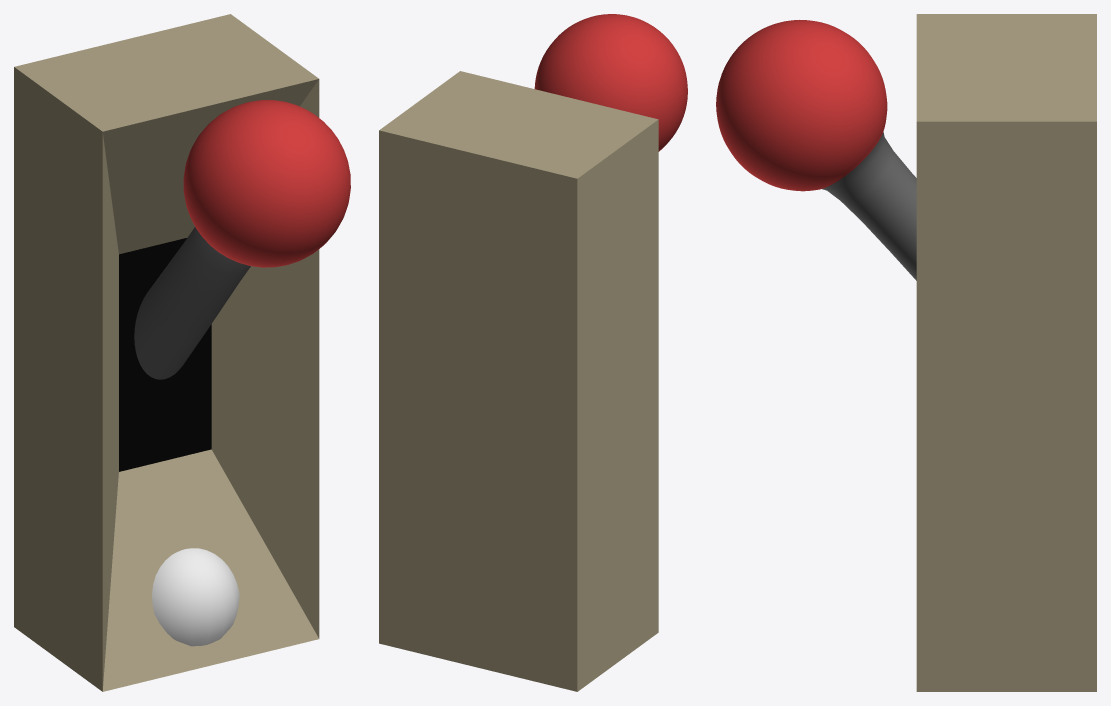
File: levier_v5.fbx
3 views of the same model, side by side, from view 1: azimuth 30°, elevation 25°; view 2: azimuth 150°, elevation 25°; view 3: azimuth 270°, elevation 25° (orthographic). The views are drawn at different scales.
Visible parts, largest first — view 1: Boitier, Manche, Lumière; view 2: Boitier, Manche; view 3: Boitier, Manche.
Part boxes in pixels (bbox=[...]): Boitier: bbox=[14, 14, 319, 691]; Manche: bbox=[134, 100, 350, 379]; Lumière: bbox=[152, 548, 239, 646]; Boitier: bbox=[379, 71, 658, 691]; Manche: bbox=[534, 14, 687, 151]; Boitier: bbox=[916, 14, 1096, 691]; Manche: bbox=[716, 20, 916, 280].
Size of the model in its own units: 43.83 by 116 by 65.55.
